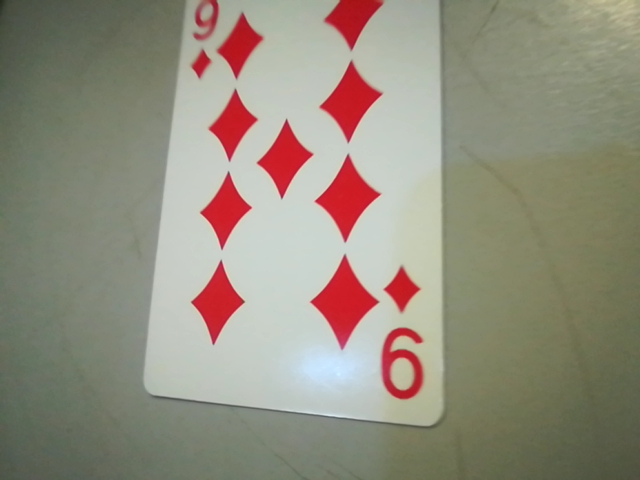fk 9: (373, 260, 441, 414), (177, 0, 236, 86)
